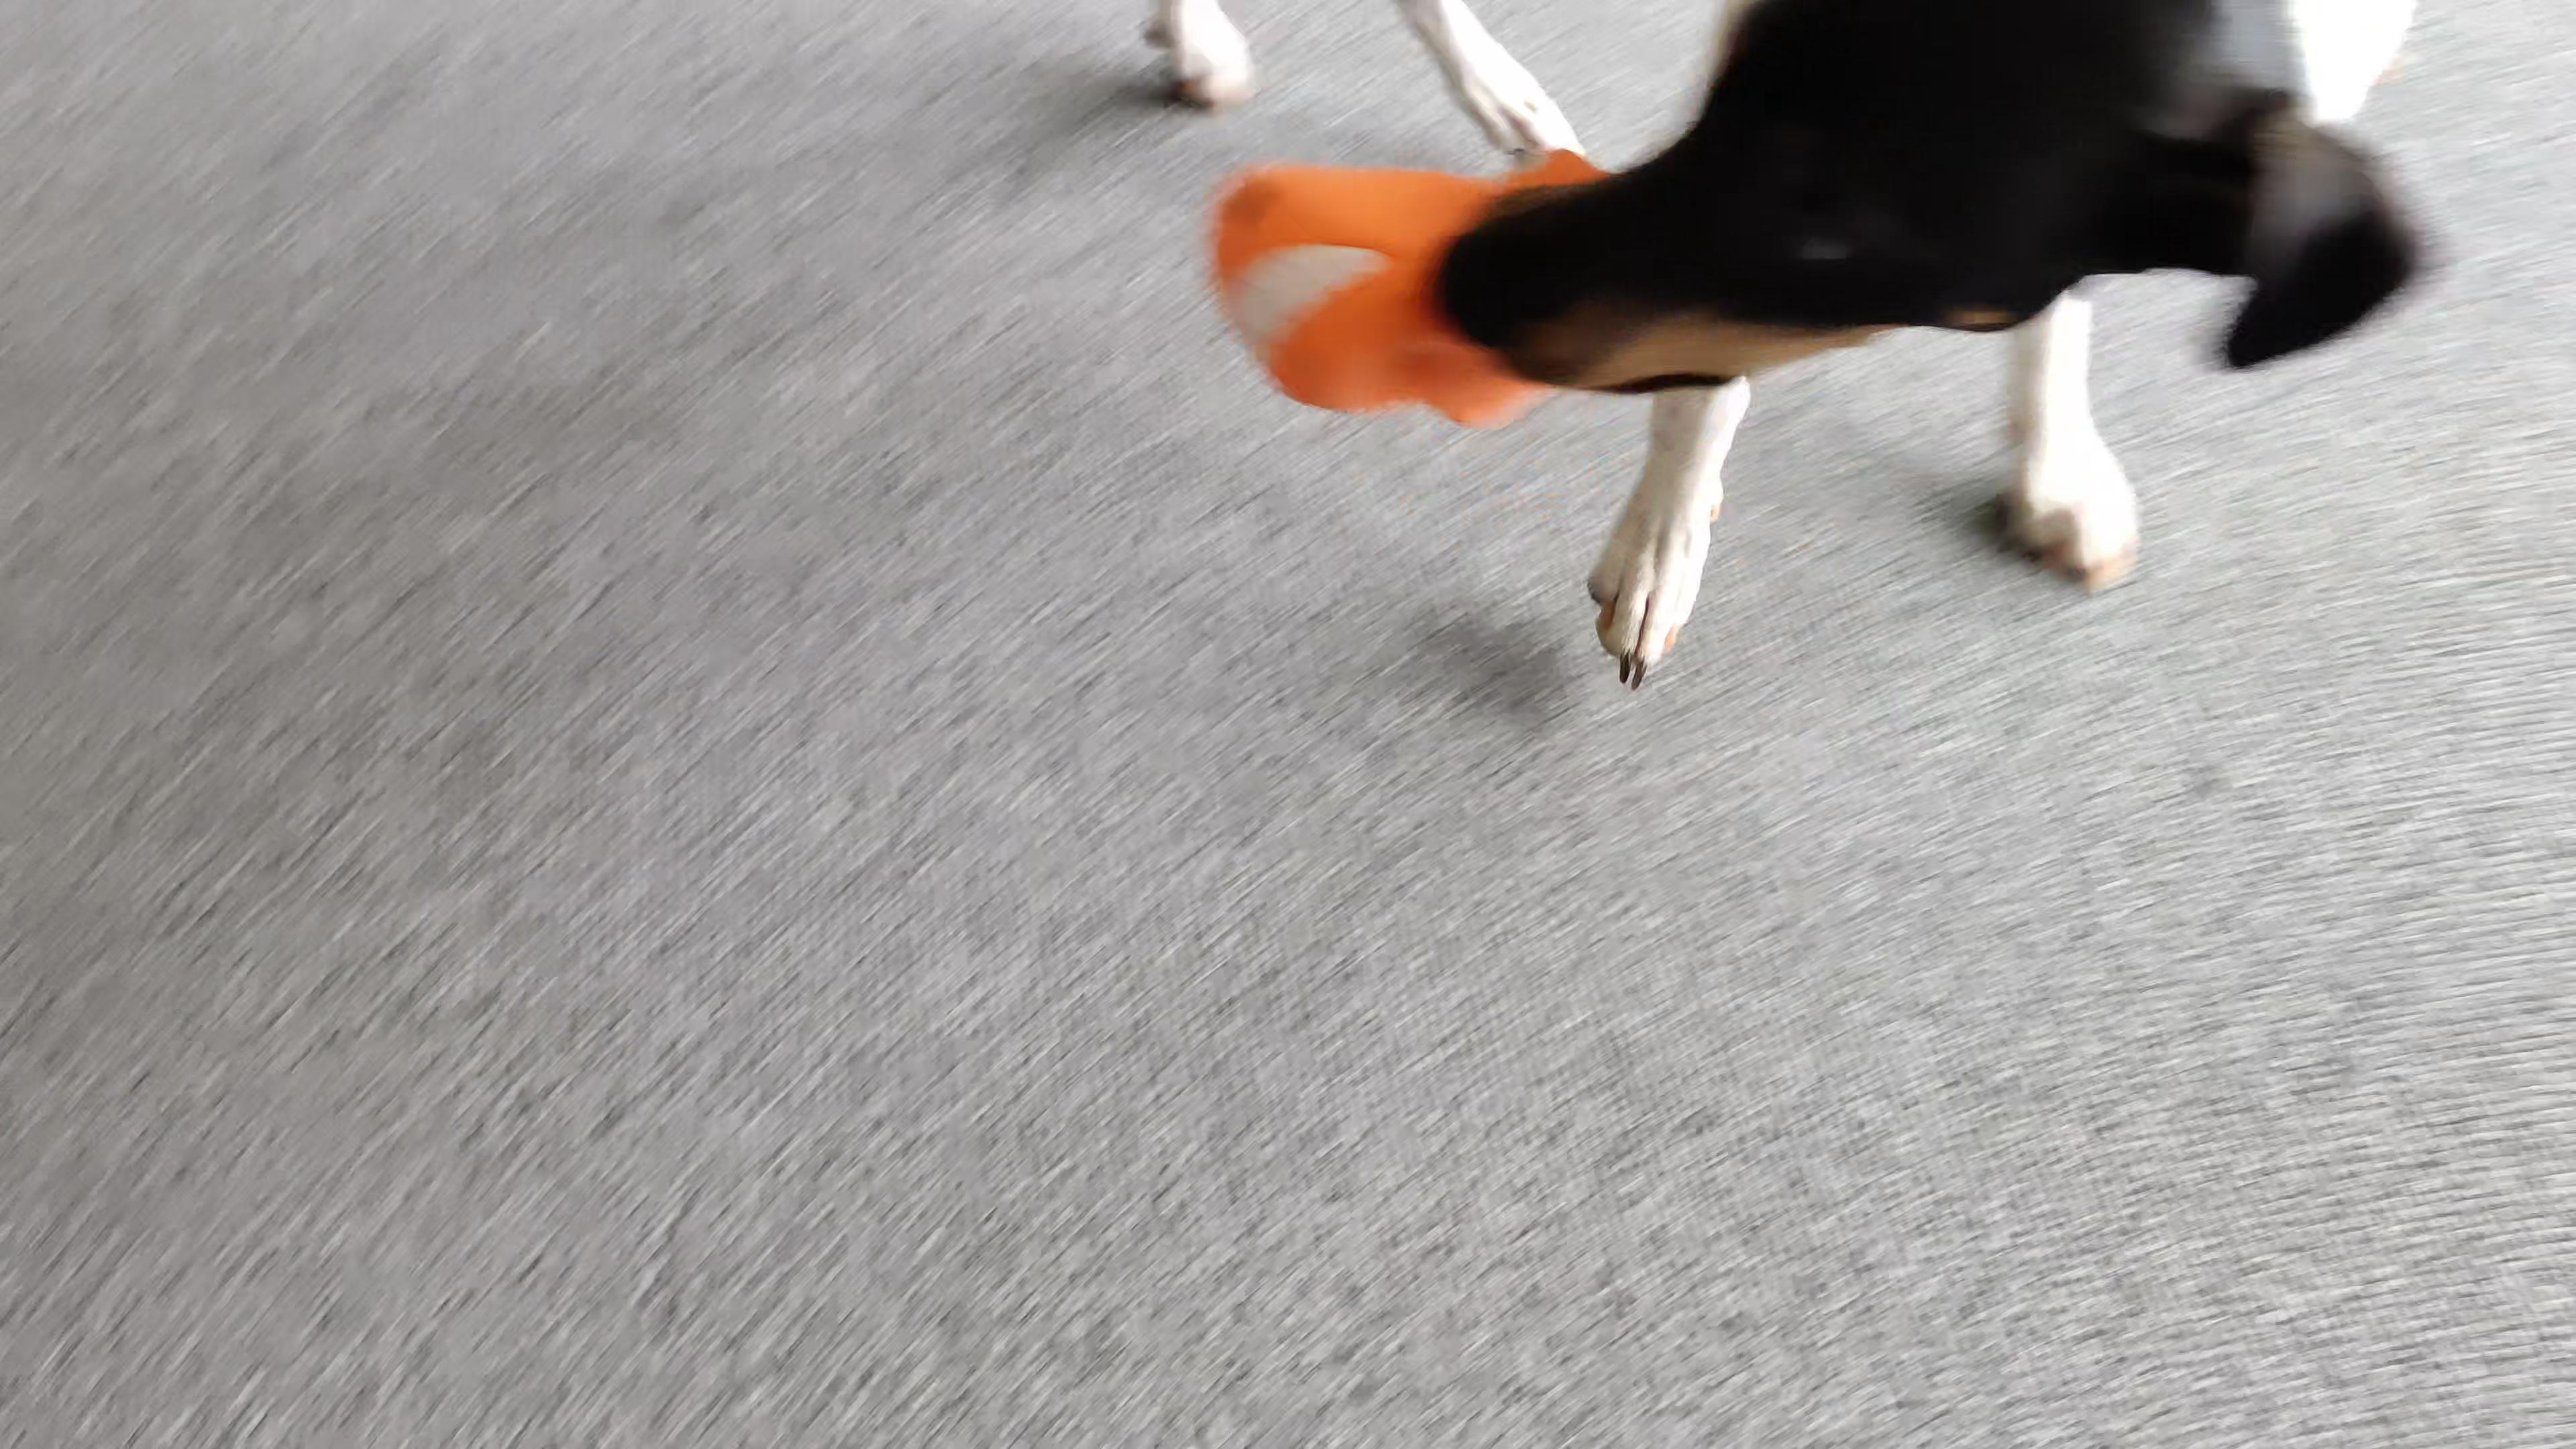Dog: (1083, 0, 2465, 706)
